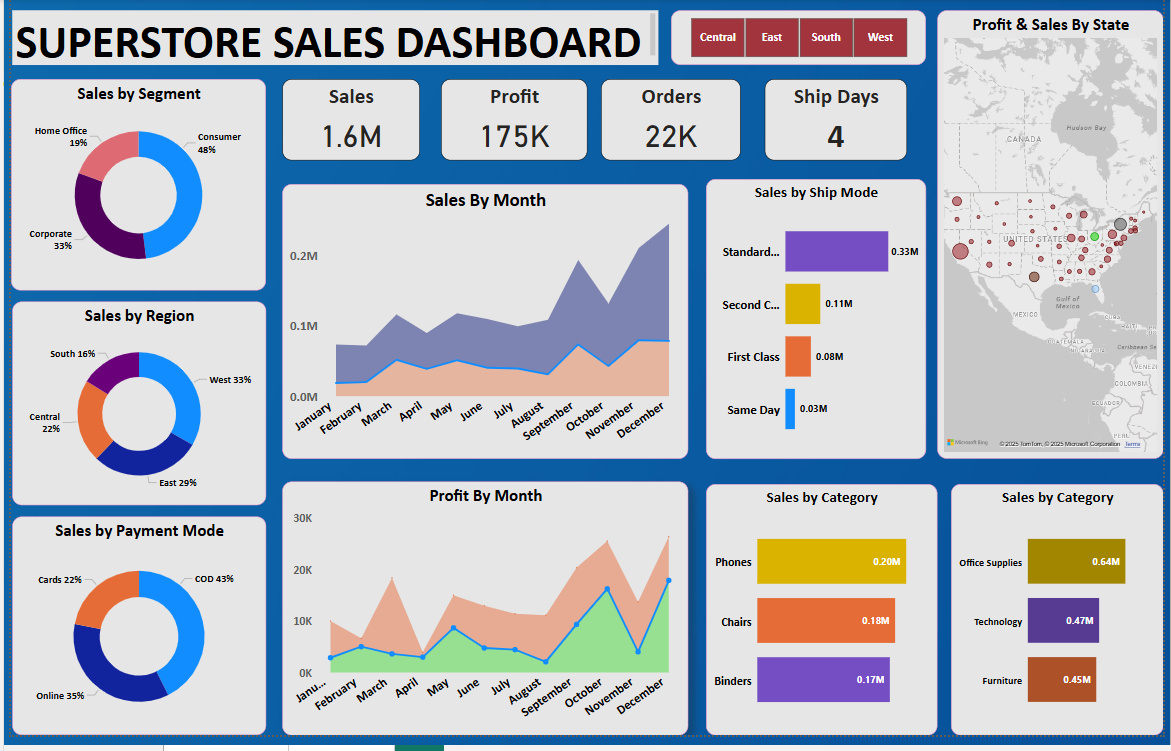

The page's visual inventory and layout, read from the dashboard file:
{"tool":"powerbi","page":{"name":"Dashboard","canvas":[1800,1150],"ordinal":0},"visuals":[{"type":"clusteredBarChart","title":"Sales by Category","fields":{"Category":["SuperStore_Sales_Dataset.Category"],"Y":["Sum(SuperStore_Sales_Dataset.Sales)"]},"box":[1468.8,757.8,332,392.6],"z":0},{"type":"clusteredBarChart","title":"Sales by Ship Mode","fields":{"Category":["SuperStore_Sales_Dataset.Ship Mode"],"Y":["Sum(SuperStore_Sales_Dataset.Sales)"]},"box":[1085.9,281.3,343.8,437.5],"z":2},{"type":"stackedAreaChart","title":" Sales By Month","fields":{"Y":["Sum(SuperStore_Sales_Dataset.Sales)"],"Category":["SuperStore_Sales_Dataset.Order Date.Variation.Date Hierarchy.Month","SuperStore_Sales_Dataset.Order Date.Variation.Date Hierarchy.Day"],"Series":["SuperStore_Sales_Dataset.Order Date.Variation.Date Hierarchy.Year"]},"box":[423.8,289.1,634.8,429.7],"z":3},{"type":"stackedAreaChart","title":" Profit By Month","fields":{"Category":["SuperStore_Sales_Dataset.Order Date.Variation.Date Hierarchy.Month"],"Series":["SuperStore_Sales_Dataset.Order Date.Variation.Date Hierarchy.Year"],"Y":["Sum(SuperStore_Sales_Dataset.Profit)"]},"box":[423.8,753.9,634.8,396.5],"z":4},{"type":"clusteredBarChart","title":"Sales by Category","fields":{"Category":["SuperStore_Sales_Dataset.Sub-Category"],"Y":["Sum(SuperStore_Sales_Dataset.Sales)"]},"box":[1085.9,757.8,361.3,392.6],"z":5},{"type":"map","title":"Profit & Sales By State","fields":{"Category":["SuperStore_Sales_Dataset.State"],"Size":["Sum(SuperStore_Sales_Dataset.Sales)"]},"box":[1447.3,17.6,353.5,701.2],"z":6},{"type":"donutChart","title":" Sales by Segment","fields":{"Category":["SuperStore_Sales_Dataset.Segment"],"Y":["Sum(SuperStore_Sales_Dataset.Sales)"]},"box":[0,125,398.4,330.1],"z":7},{"type":"donutChart","title":"Sales by Region","fields":{"Category":["SuperStore_Sales_Dataset.Region"],"Y":["Sum(SuperStore_Sales_Dataset.Sales)"]},"box":[2,472.7,396.5,318.4],"z":8},{"type":"donutChart","title":"Sales by Payment Mode","fields":{"Category":["SuperStore_Sales_Dataset.Payment Mode"],"Y":["Sum(SuperStore_Sales_Dataset.Sales)"]},"box":[2,808.6,396.5,341.8],"z":9},{"type":"slicer","fields":{"Values":["SuperStore_Sales_Dataset.Region"]},"box":[1031.3,17.6,398.4,85.9],"z":10},{"type":"card","title":"Sales","fields":{"Values":["Sum(SuperStore_Sales_Dataset.Sales)"]},"box":[423.8,125,214.8,127],"z":11},{"type":"card","title":"Profit","fields":{"Values":["Sum(SuperStore_Sales_Dataset.Profit)"]},"box":[671.9,125,228.5,127],"z":12},{"type":"textbox","box":[2,17.6,1009.8,85.9],"z":13},{"type":"card","title":"Orders","fields":{"Values":["Sum(SuperStore_Sales_Dataset.Quantity)"]},"box":[921.9,125,218.8,127],"z":14},{"type":"card","title":"Ship Days","fields":{"Values":["Avg(SuperStore_Sales_Dataset.AvgDelivery)"]},"box":[1177.7,125,222.7,127],"z":15}]}

Visuals, with their boxes in screenshot pixels (x1, y1, x2, y2), scaled from the page's 1800x1150 canvas onto the 1171x751 screenshot:
"Sales by Category" clusteredBarChart: detection(956, 495, 1170, 750)
"Sales by Ship Mode" clusteredBarChart: detection(706, 184, 930, 469)
" Sales By Month" stackedAreaChart: detection(276, 189, 689, 469)
" Profit By Month" stackedAreaChart: detection(276, 492, 689, 750)
"Sales by Category" clusteredBarChart: detection(706, 495, 941, 750)
"Profit & Sales By State" map: detection(942, 11, 1170, 469)
" Sales by Segment" donutChart: detection(0, 82, 259, 297)
"Sales by Region" donutChart: detection(1, 309, 259, 517)
"Sales by Payment Mode" donutChart: detection(1, 528, 259, 750)
slicer - SuperStore_Sales_Dataset.Region: detection(671, 11, 930, 68)
"Sales" card: detection(276, 82, 415, 165)
"Profit" card: detection(437, 82, 586, 165)
textbox: detection(1, 11, 658, 68)
"Orders" card: detection(600, 82, 742, 165)
"Ship Days" card: detection(766, 82, 911, 165)
